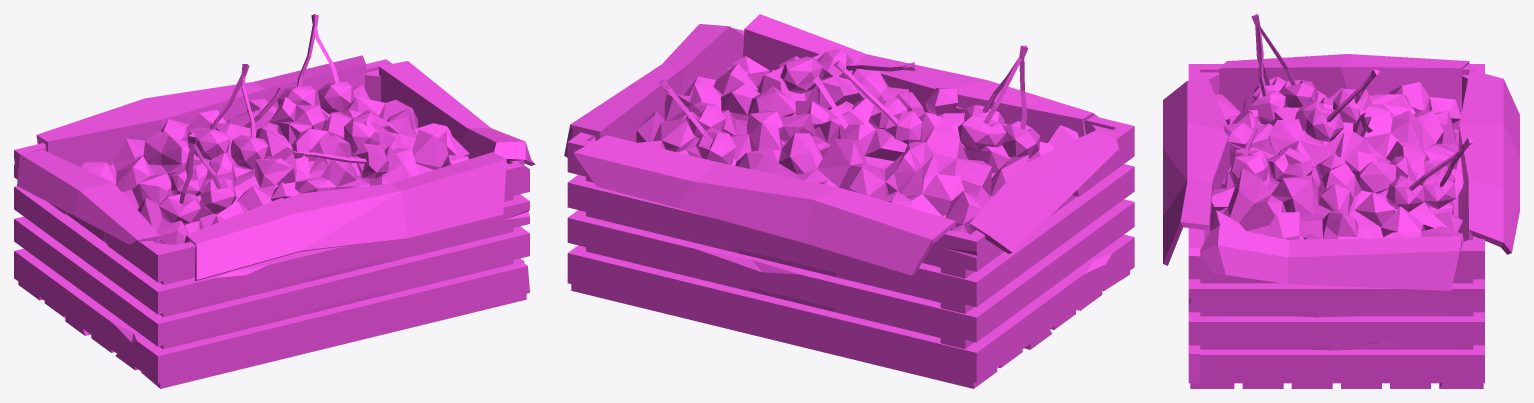
File: SM_Crate_Wood_Medium_Paper_Cherries.fbx
The picture shows the model from 3 angles, left to right: view 1: azimuth 30°, elevation 25°; view 2: azimuth 150°, elevation 25°; view 3: azimuth 270°, elevation 25°; orthographic projection. The views are drawn at different scales.
Parts seen in each view (by area): view 1: SM_Crate_Wood_Medium_Paper_Cherries; view 2: SM_Crate_Wood_Medium_Paper_Cherries; view 3: SM_Crate_Wood_Medium_Paper_Cherries.
Boxes of the visible parts, bbox=[...] form: SM_Crate_Wood_Medium_Paper_Cherries: bbox=[14, 14, 535, 388]; SM_Crate_Wood_Medium_Paper_Cherries: bbox=[564, 14, 1134, 388]; SM_Crate_Wood_Medium_Paper_Cherries: bbox=[1163, 14, 1519, 388].
Bounding box in the file's own units: 0.663 × 0.3387 × 0.4887.
